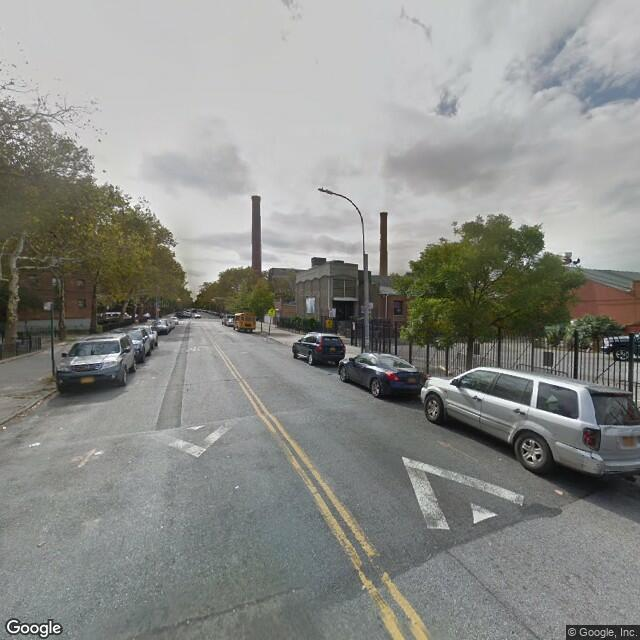litter: (1, 416, 13, 434)
